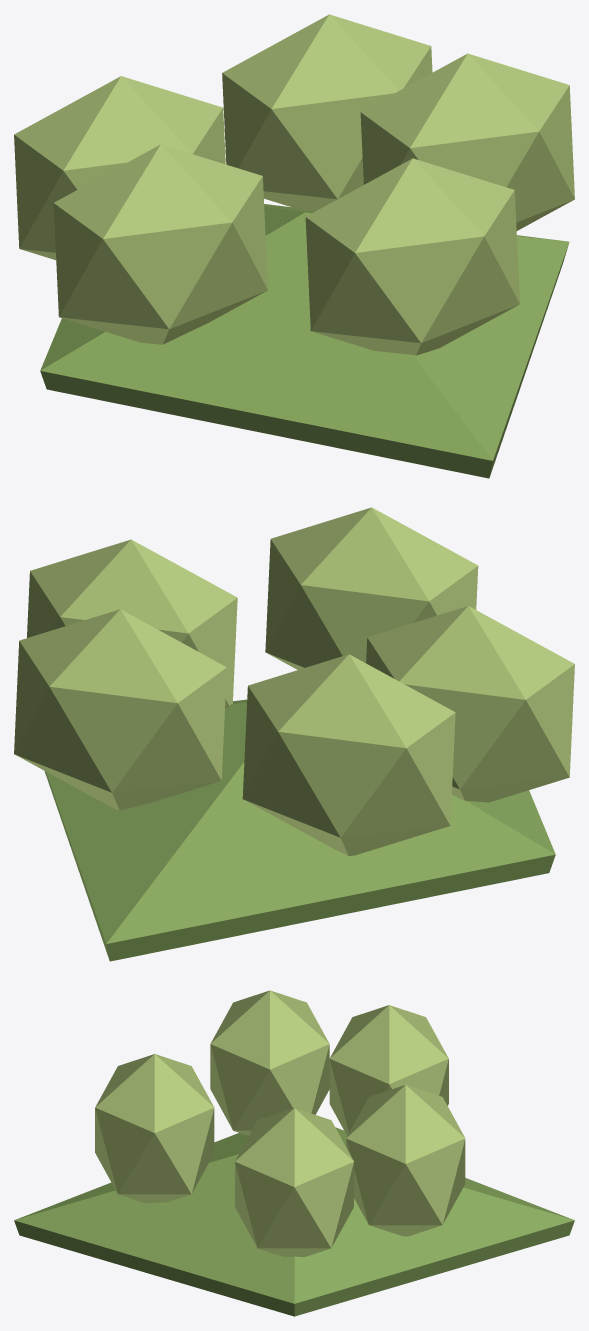
Rendered from CC_FeedPlant.fbx.
The picture shows the model from 3 angles, top to bottom: view 1: azimuth 30°, elevation 25°; view 2: azimuth 150°, elevation 25°; view 3: azimuth 270°, elevation 25°; orthographic projection. The views are drawn at different scales.
Visible parts, largest first — view 1: Wrapping, Feed piece.004, Feed piece.002, Feed piece.003, Feed piece, Feed piece.001; view 2: Wrapping, Feed piece.001, Feed piece.003, Feed piece.004, Feed piece.002, Feed piece; view 3: Wrapping, Feed piece.002, Feed piece, Feed piece.003, Feed piece.004, Feed piece.001.
Boxes of the visible parts, x1=… form: Wrapping: x1=40, y1=204, x2=569, y2=478; Feed piece.004: x1=53, y1=144, x2=267, y2=344; Feed piece.002: x1=305, y1=158, x2=519, y2=355; Feed piece.003: x1=222, y1=14, x2=432, y2=211; Feed piece: x1=360, y1=53, x2=574, y2=230; Feed piece.001: x1=14, y1=76, x2=225, y2=260; Wrapping: x1=44, y1=699, x2=555, y2=961; Feed piece.001: x1=242, y1=654, x2=455, y2=855; Feed piece.003: x1=14, y1=609, x2=226, y2=810; Feed piece.004: x1=366, y1=606, x2=574, y2=802; Feed piece.002: x1=265, y1=507, x2=478, y2=669; Feed piece: x1=27, y1=539, x2=237, y2=708; Wrapping: x1=14, y1=1127, x2=574, y2=1316; Feed piece.002: x1=95, y1=1054, x2=214, y2=1203; Feed piece: x1=235, y1=1108, x2=353, y2=1257; Feed piece.003: x1=346, y1=1085, x2=465, y2=1236; Feed piece.004: x1=210, y1=990, x2=329, y2=1135; Feed piece.001: x1=329, y1=1005, x2=448, y2=1135.
Size of the model in its own units: 0.5689 by 0.2571 by 0.7.
